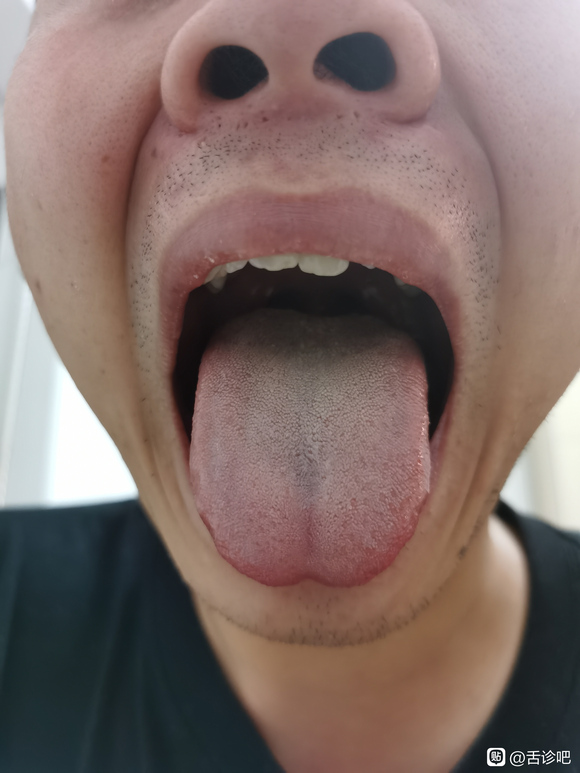baitaishe: (189, 308, 429, 589)
hongshe: (189, 308, 429, 589)
xinfeiao: (270, 552, 348, 590)
